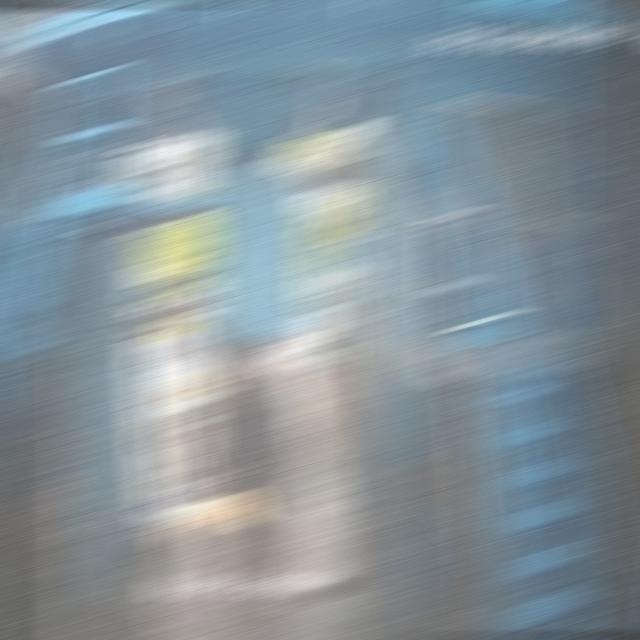cement_mixer_truck: (183, 271, 304, 466)
